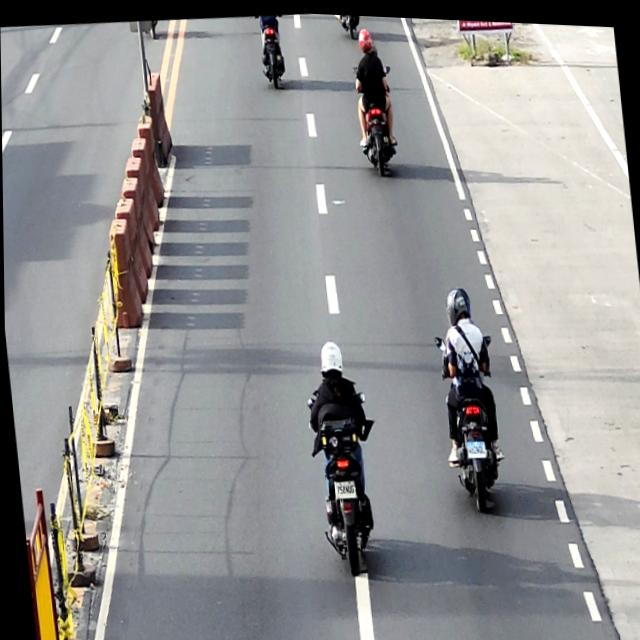License-Plate: (331, 475, 355, 497), (464, 436, 485, 456)
Motorcycle: (304, 383, 388, 577), (433, 325, 508, 512), (351, 59, 400, 174), (254, 11, 288, 88), (333, 12, 362, 37)
